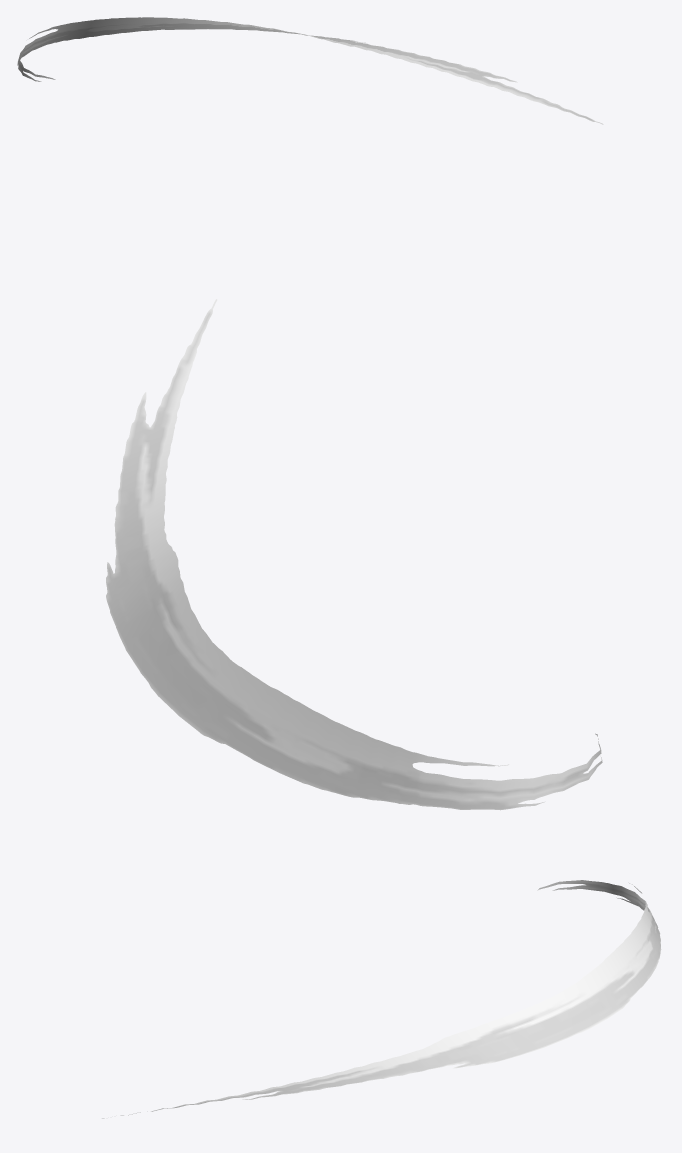
Rendered from trail_133.FBX.
3 views of the same model, one above another, from view 1: azimuth 30°, elevation 25°; view 2: azimuth 150°, elevation 25°; view 3: azimuth 270°, elevation 25° (orthographic). The views are drawn at different scales.
Parts seen in each view (by area): view 1: trail_133; view 2: trail_133; view 3: trail_133.
Part boxes in pixels (<box>): trail_133: <box>17,17,603,124</box>; trail_133: <box>106,299,602,810</box>; trail_133: <box>102,880,661,1118</box>.
Size of the model in its own units: 162 by 16.39 by 171.
